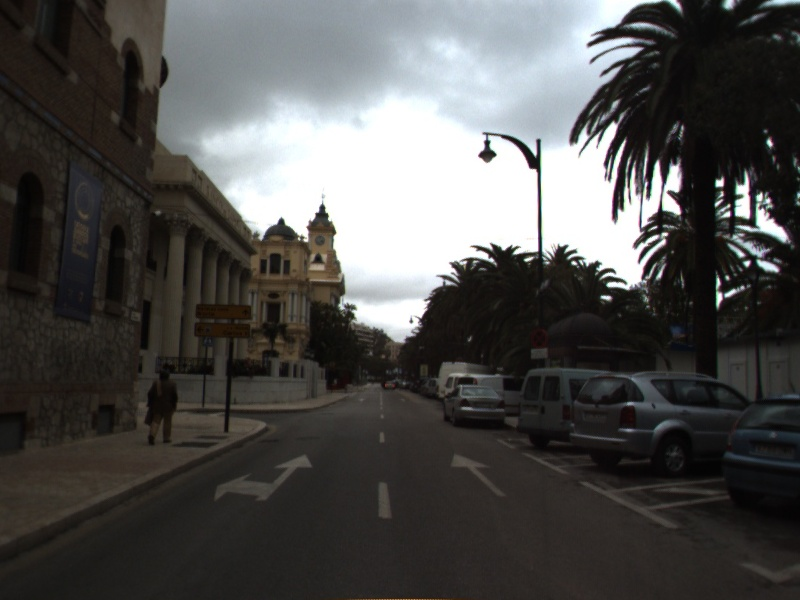STRAIGHT: (449, 451, 509, 499)
STRAIGHT_LEFT: (212, 452, 316, 504)
